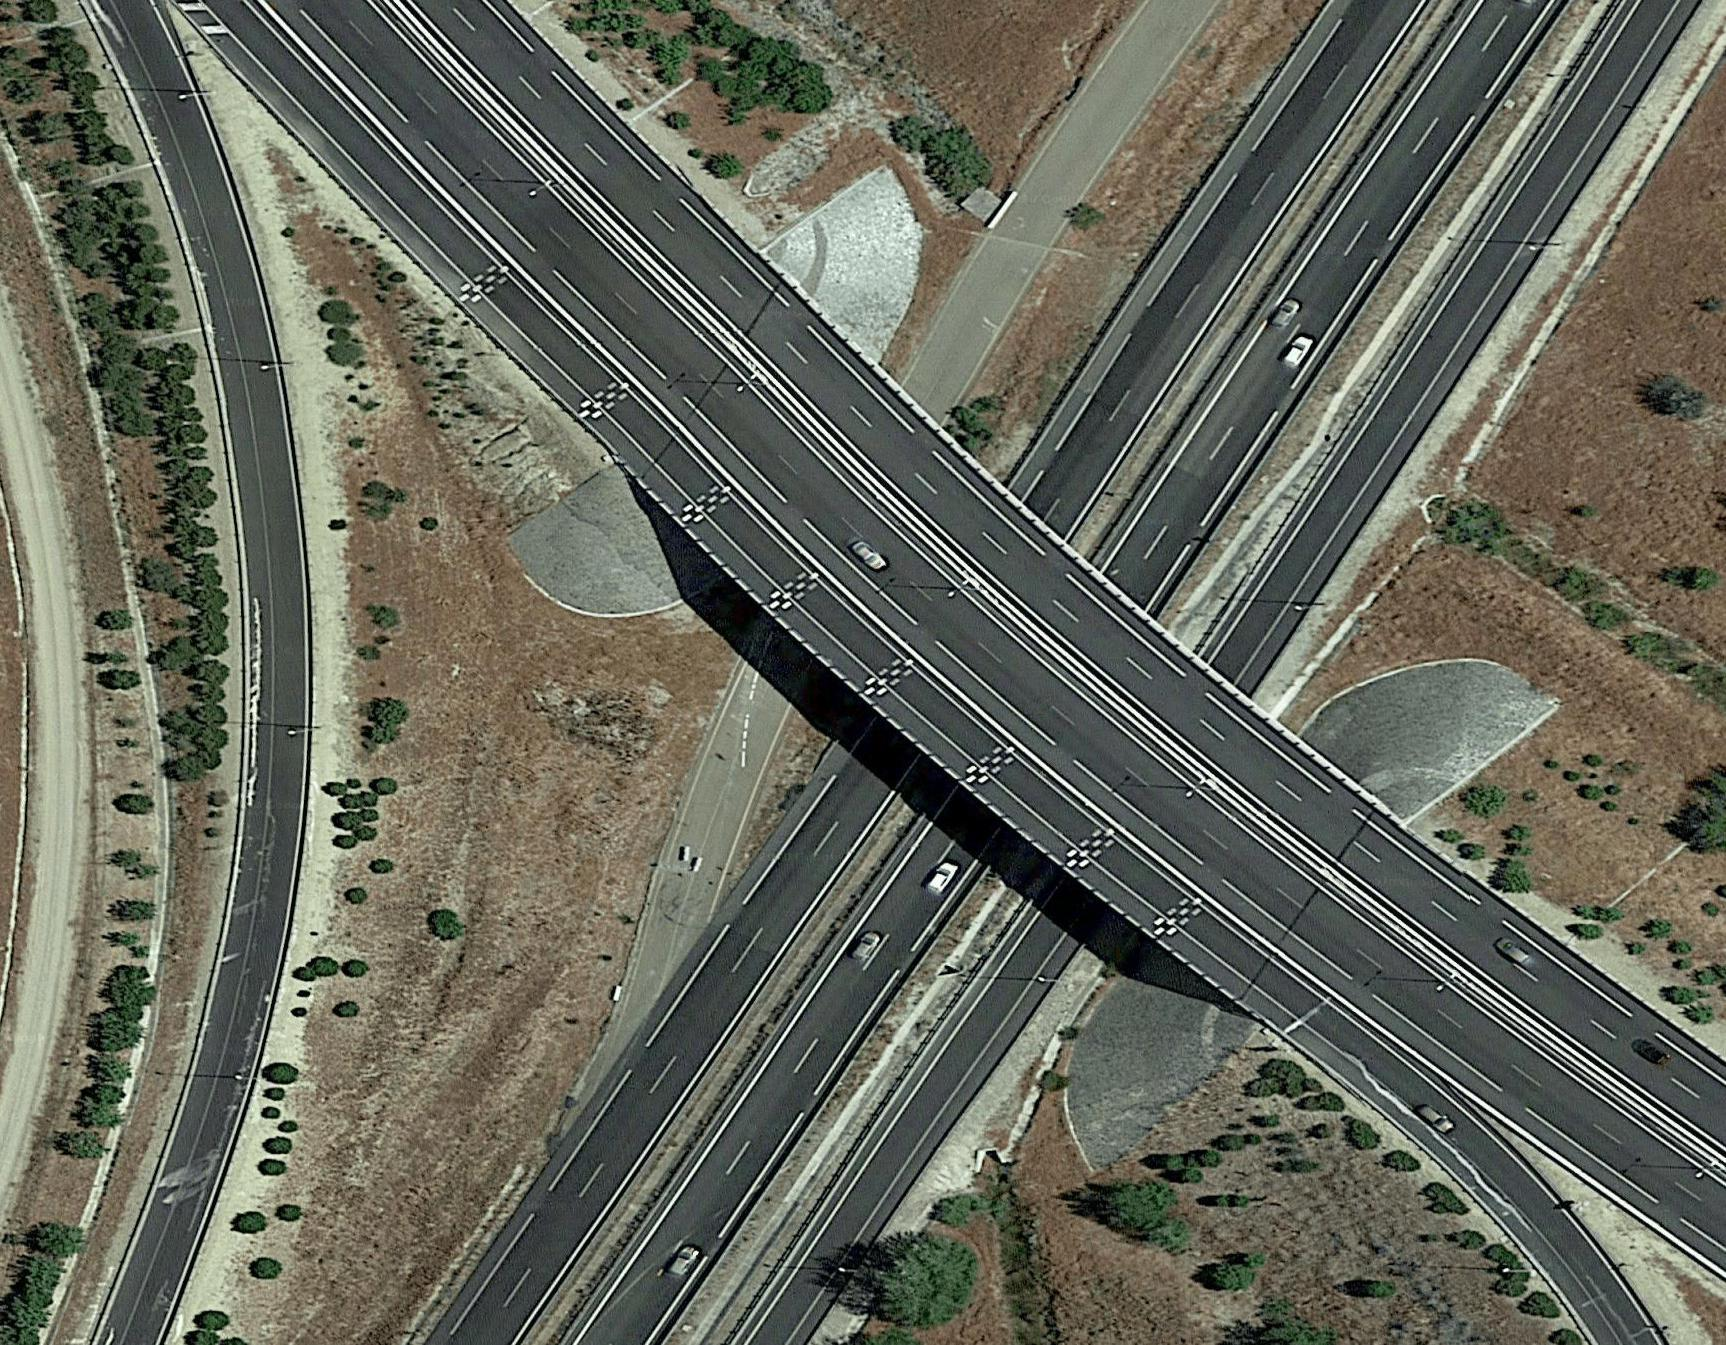bridge: (639, 319, 1421, 979)
small-vehicle: (845, 926, 891, 972), (1278, 331, 1320, 368), (923, 862, 958, 895)
